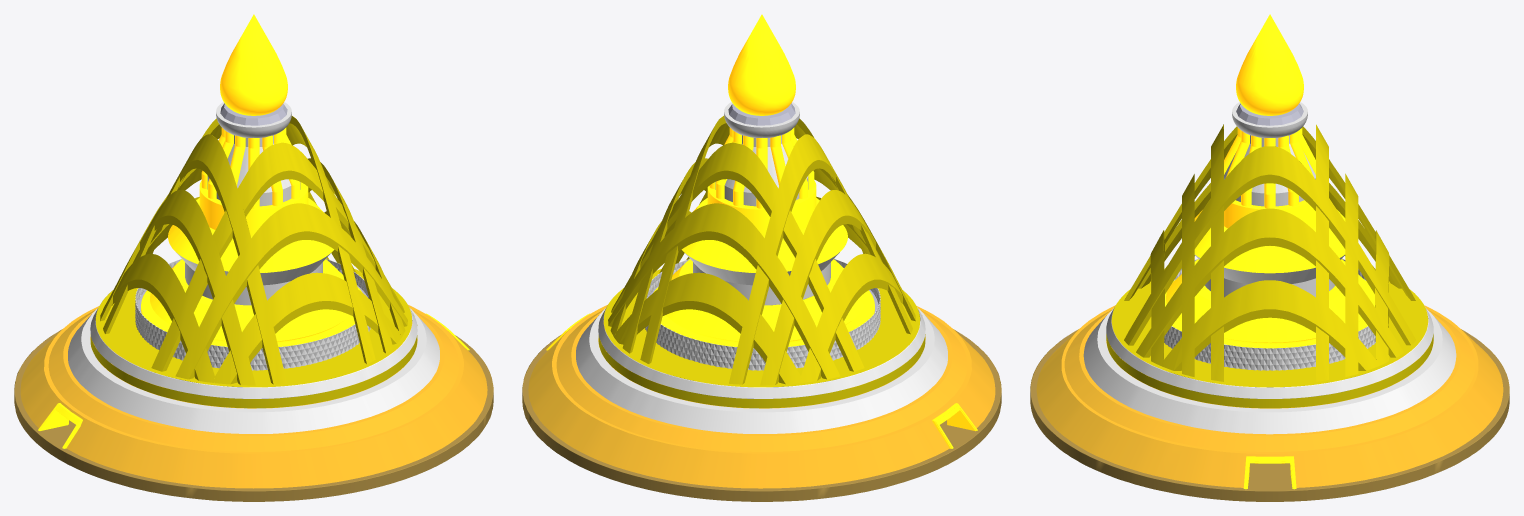
Rendered from JD_ONLY.glb.
3 renders of one model, left to right at view 1: azimuth 30°, elevation 25°; view 2: azimuth 150°, elevation 25°; view 3: azimuth 270°, elevation 25°, orthographic.
Parts seen in each view (by area): view 1: Build, group1, WallEx, ground03, lotus, group2, Lotus, Group26, DoorA; view 2: Build, group1, WallEx, ground03, lotus, group2, Lotus, Group26, DoorA; view 3: Build, group1, WallEx, ground03, lotus, group2, Lotus, DoorB, Group26.
Part boxes in pixels (x1,y1,x2,y2): Build: [48, 135, 459, 451]; group1: [100, 116, 407, 385]; WallEx: [20, 305, 487, 488]; ground03: [14, 329, 493, 501]; lotus: [220, 14, 287, 115]; group2: [201, 127, 306, 208]; Lotus: [216, 102, 291, 137]; Group26: [137, 285, 367, 398]; DoorA: [38, 403, 82, 448]; Build: [556, 135, 967, 451]; group1: [608, 116, 915, 385]; WallEx: [528, 305, 995, 488]; ground03: [522, 329, 1001, 501]; lotus: [728, 14, 795, 115]; group2: [709, 127, 814, 208]; Lotus: [724, 102, 799, 137]; Group26: [648, 285, 878, 398]; DoorA: [932, 403, 977, 448]; Build: [1064, 135, 1475, 451]; group1: [1124, 124, 1415, 381]; WallEx: [1036, 305, 1503, 487]; ground03: [1030, 329, 1509, 501]; lotus: [1236, 14, 1303, 115]; group2: [1224, 127, 1315, 208]; Lotus: [1232, 102, 1307, 137]; DoorB: [1243, 456, 1296, 489]; Group26: [1165, 279, 1374, 398].
Bounding box in the file's own units: 0.908 × 0.8087 × 0.908.
